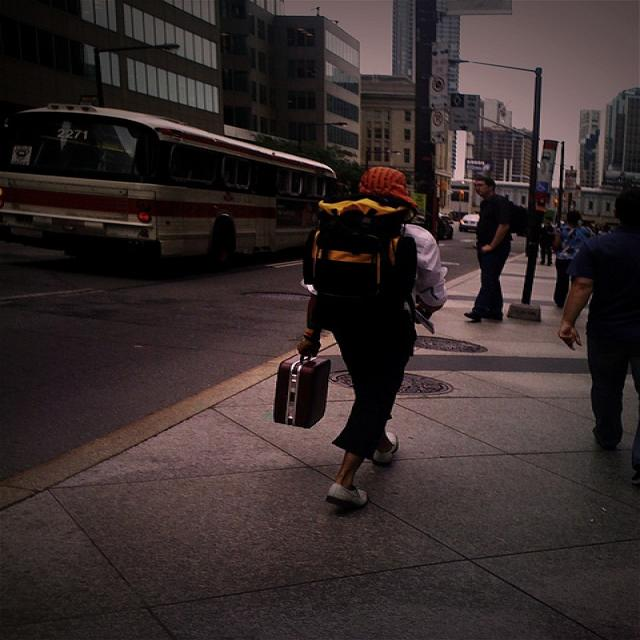Bus: (29, 79, 325, 277)
People: (300, 164, 405, 523), (580, 168, 640, 497), (452, 148, 537, 336), (535, 189, 593, 297)
